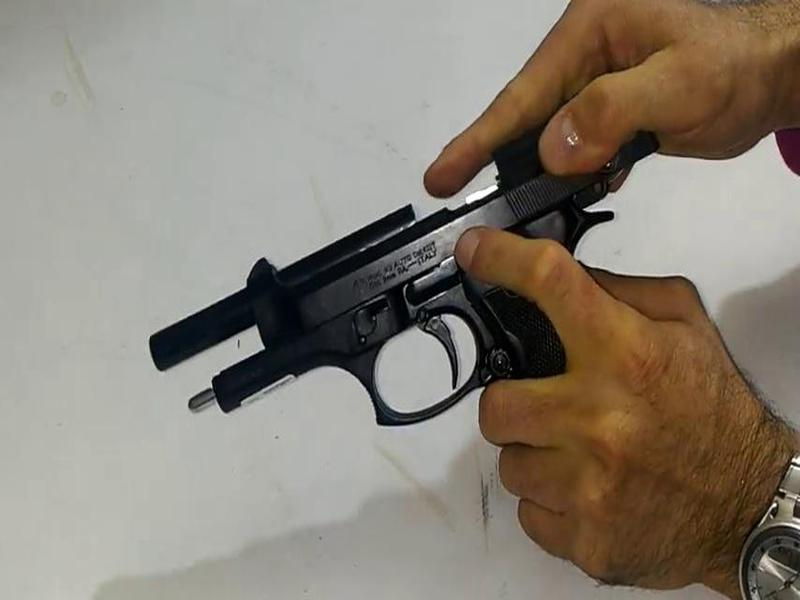Pistola: (123, 74, 717, 476)
